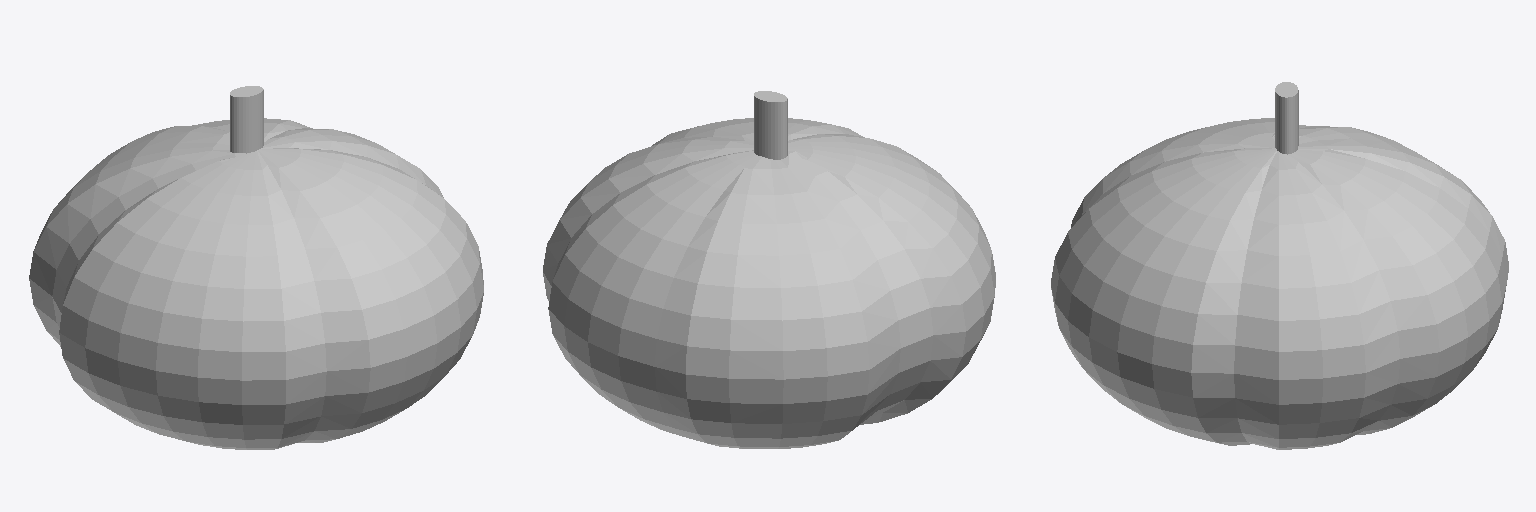
Rendered from Pumpkin.obj.
The picture shows the model from 3 angles: view 1: azimuth 30°, elevation 25°; view 2: azimuth 150°, elevation 25°; view 3: azimuth 270°, elevation 25°; orthographic projection.
Parts seen in each view (by area): view 1: Cylinder; view 2: Cylinder; view 3: Cylinder.
Part boxes in pixels (x1,y1,x2,y2): Cylinder: (29,86,483,449); Cylinder: (543,91,995,448); Cylinder: (1051,82,1508,449).
Size of the model in its own units: 3.73 by 2.95 by 3.75.